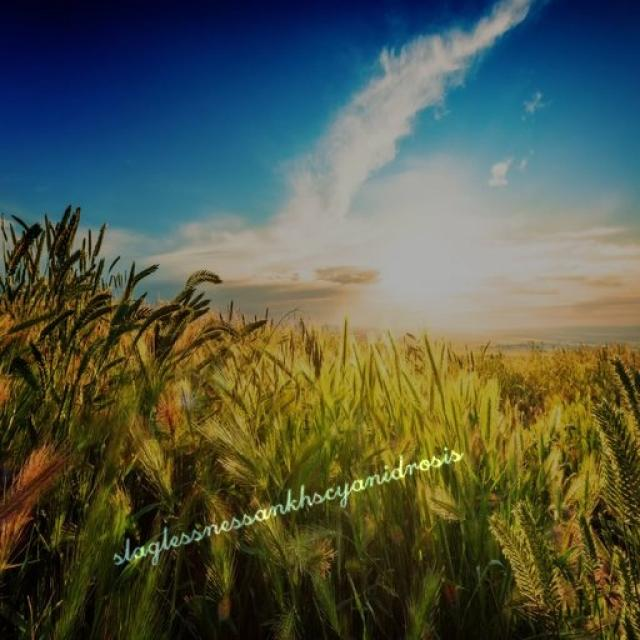watermark: (107, 434, 463, 569)
